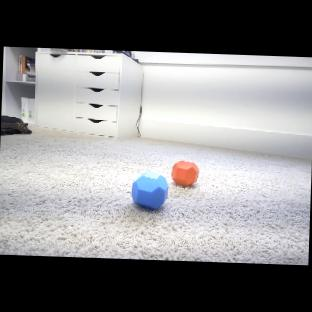V5_BLUE: (131, 171, 169, 211)
V5_RED: (172, 160, 201, 188)
